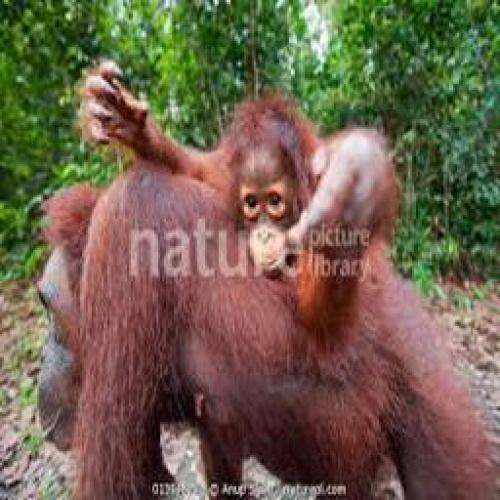orangutan-endangered: (30, 176, 480, 490), (62, 50, 401, 334)
